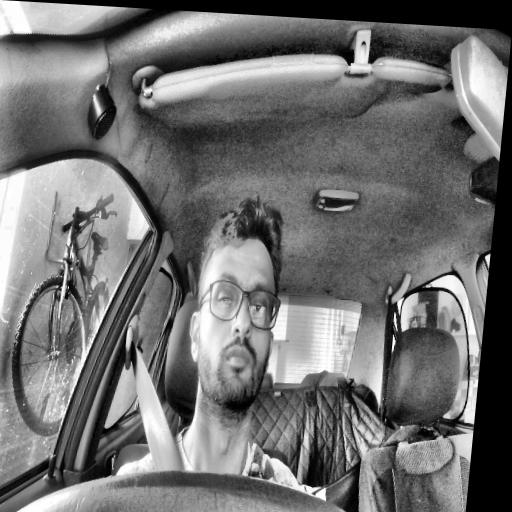awake: (181, 192, 291, 419)
